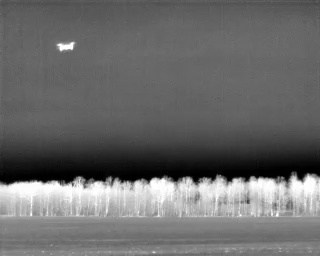DRONE: (52, 37, 79, 57)
